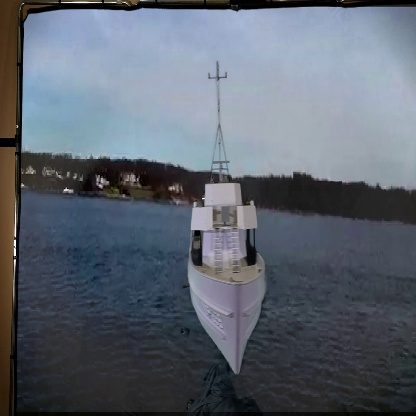YP689: (187, 62, 267, 372)
